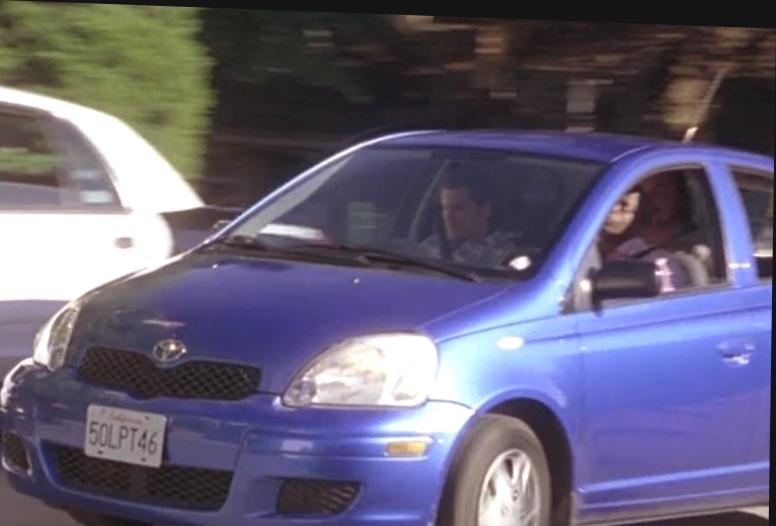License_Plate: (81, 400, 169, 471)
